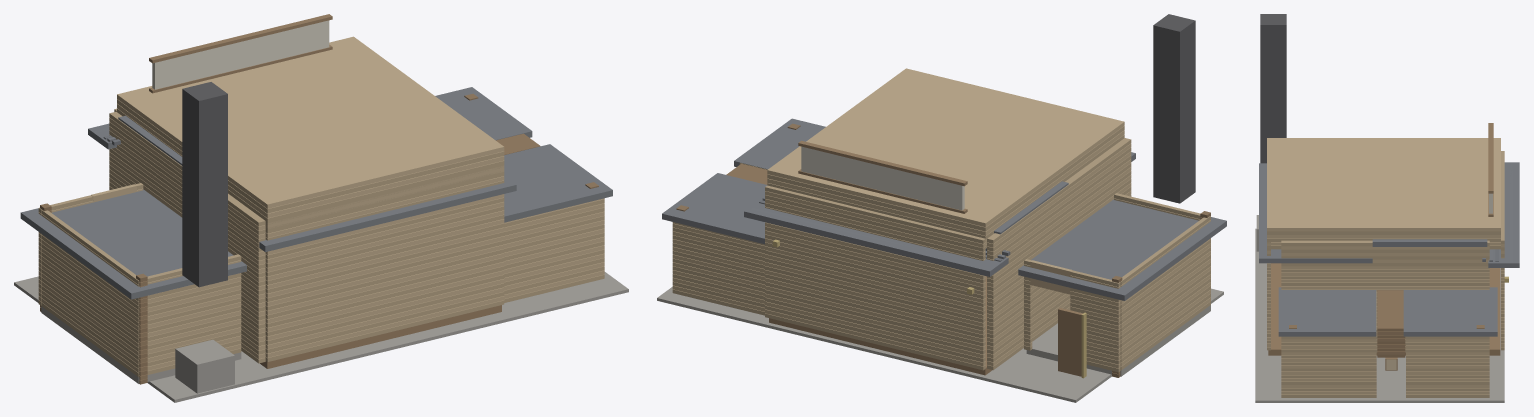
Rendered from Sawmill.glb.
The picture shows the model from 3 angles, left to right: view 1: azimuth 30°, elevation 25°; view 2: azimuth 150°, elevation 25°; view 3: azimuth 270°, elevation 25°; orthographic projection. The views are drawn at different scales.
Visible parts, largest first — view 1: Body, Roof, Smokestack, Sign; view 2: Body, Roof, Smokestack, Sign, Door; view 3: Body, Roof, Smokestack, Sign.
Boxes of the visible parts, x1,y1,x2,y2 form: Body: (14, 36, 628, 402); Roof: (20, 87, 612, 299); Smokestack: (182, 82, 227, 287); Sign: (149, 14, 332, 93); Body: (657, 68, 1223, 402); Roof: (662, 118, 1226, 300); Smokestack: (1153, 14, 1195, 203); Sign: (798, 140, 967, 213); Door: (1058, 308, 1086, 378); Body: (1255, 138, 1504, 402); Roof: (1259, 162, 1519, 336); Smokestack: (1260, 14, 1286, 163); Sign: (1488, 123, 1493, 216).
Size of what is drawn, in the model's own units: 65.7 by 38.5 by 40.6.
